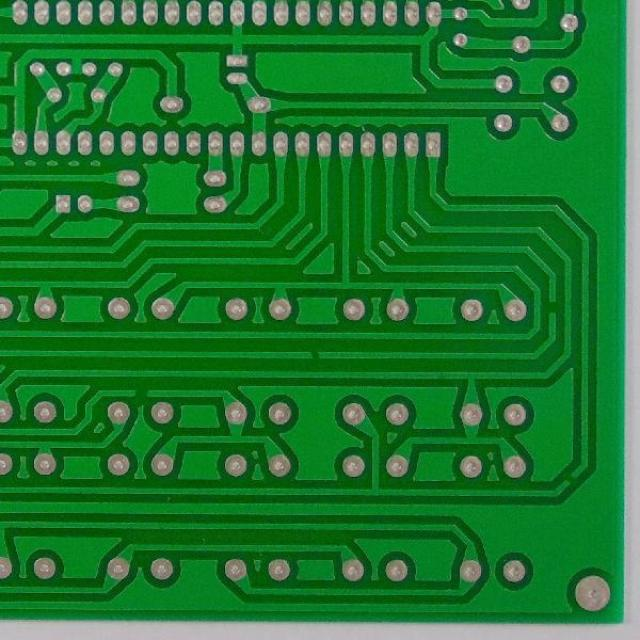Open_Circuit: (125, 384, 159, 401), (544, 292, 561, 322), (302, 346, 328, 362), (562, 467, 580, 488)
